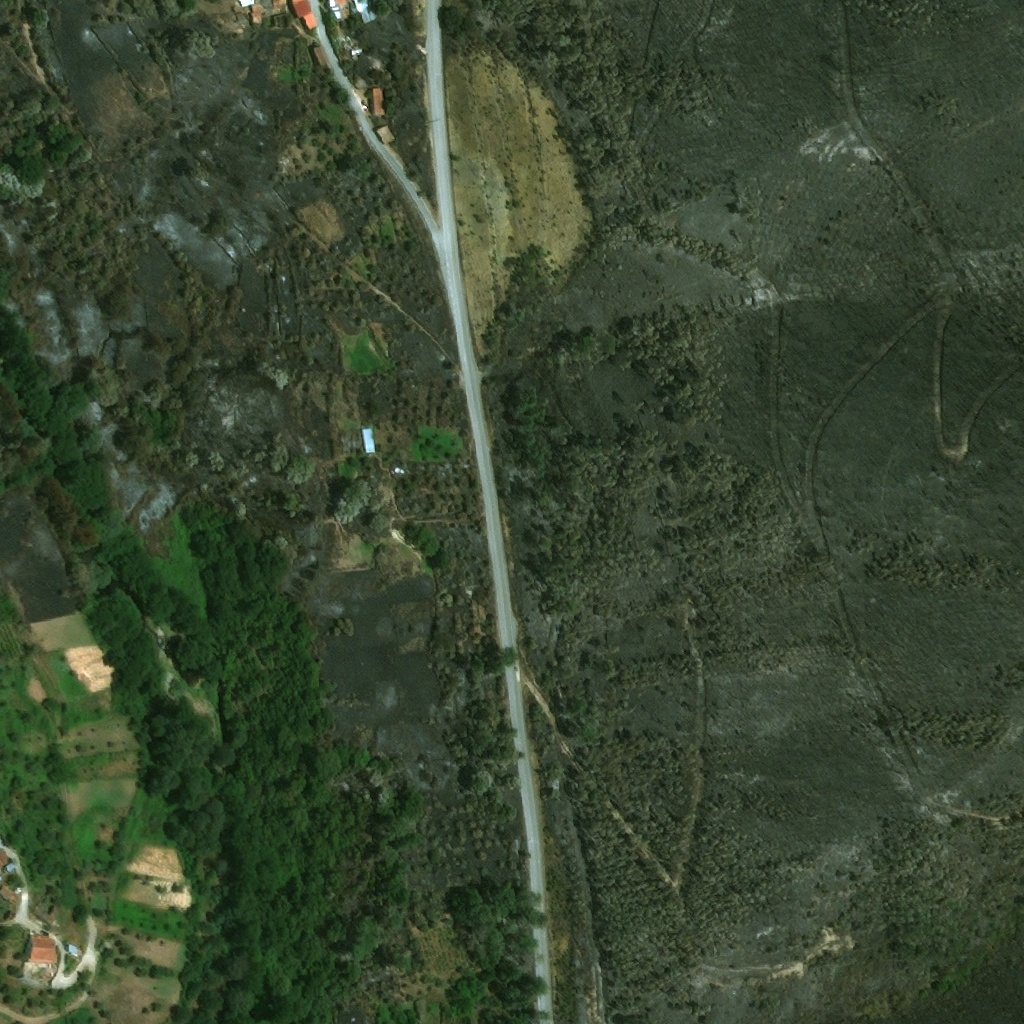0 no-damage: (34, 896, 67, 927), (26, 933, 56, 965), (351, 0, 378, 24), (375, 125, 399, 146), (309, 43, 329, 66), (331, 0, 352, 20), (361, 427, 377, 453), (291, 0, 314, 18), (373, 86, 387, 115), (0, 884, 19, 903), (0, 847, 12, 869), (304, 15, 319, 30), (253, 5, 264, 24), (68, 944, 83, 955), (273, 0, 289, 9), (241, 0, 257, 7), (7, 861, 16, 870)
3 destroyed: (237, 11, 247, 20)
4 un-classified: (345, 37, 359, 52)
